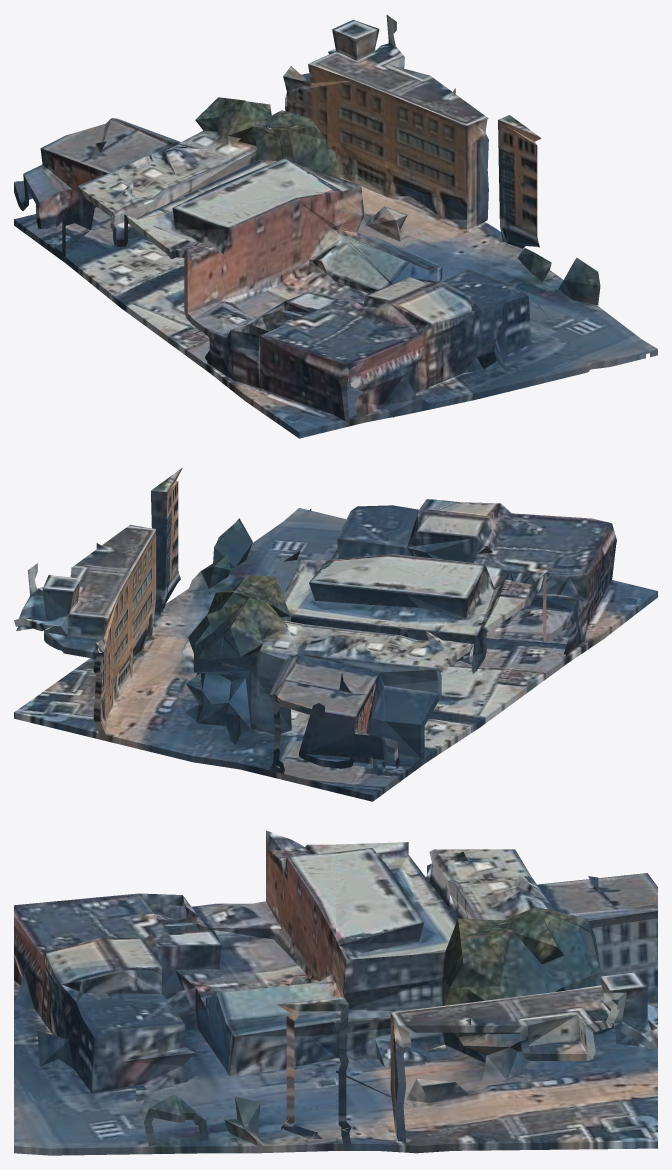
The model's file is chunk_2_-2.glb.
3 renders of one model, top to bottom at view 1: azimuth 30°, elevation 25°; view 2: azimuth 150°, elevation 25°; view 3: azimuth 270°, elevation 25°, orthographic. The views are drawn at different scales.
Visible parts, largest first — view 1: hero-chunk; view 2: hero-chunk; view 3: hero-chunk.
Part boxes in pixels (x1,y1,x2,y2): hero-chunk: (14,15,657,438); hero-chunk: (14,467,657,801); hero-chunk: (14,830,657,1155).
Bounding box in the file's own units: 55.42 × 21.32 × 76.32.
Materials: 2 (2 with a texture image).
